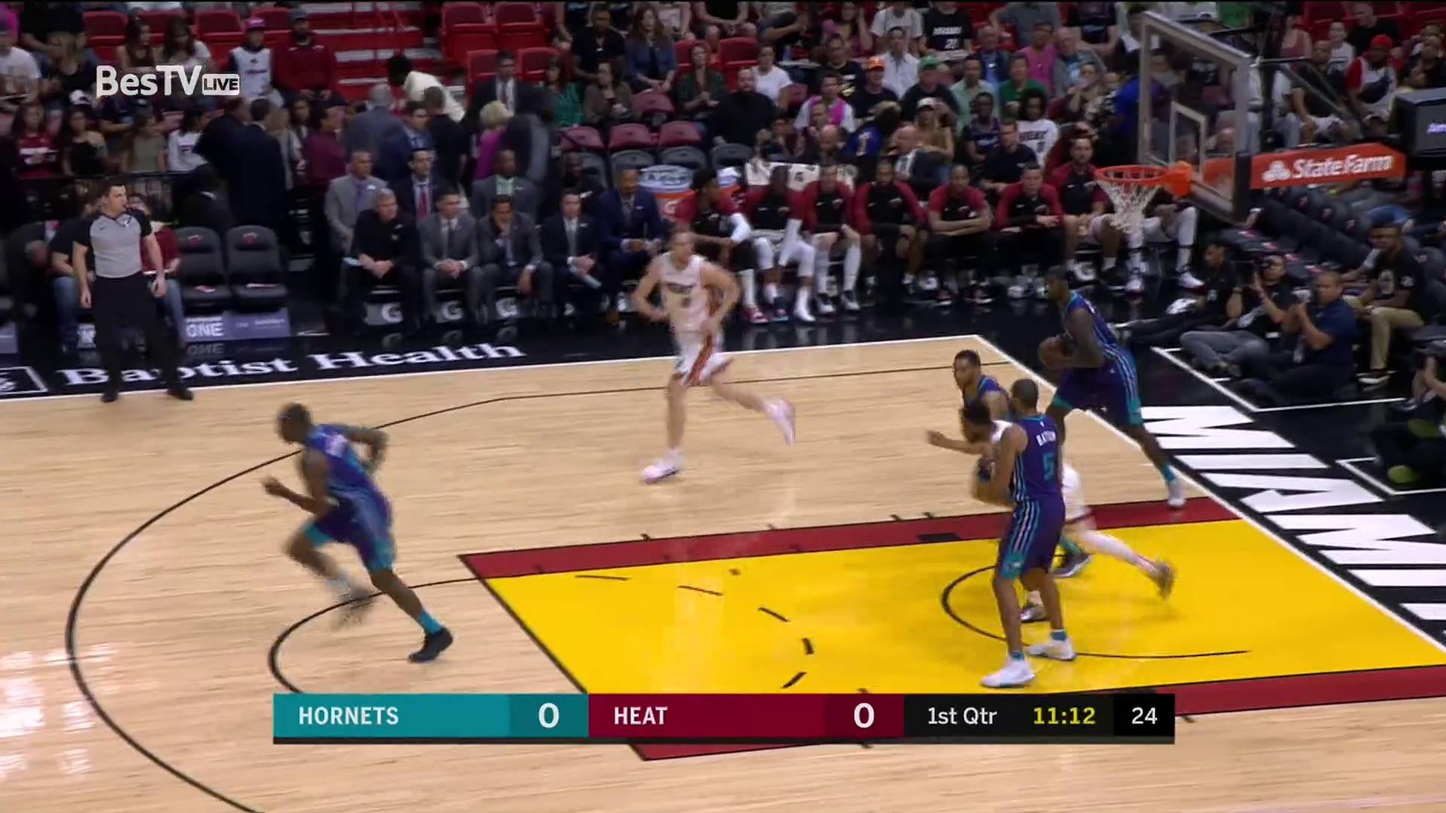basketball: (1036, 336, 1067, 368)
